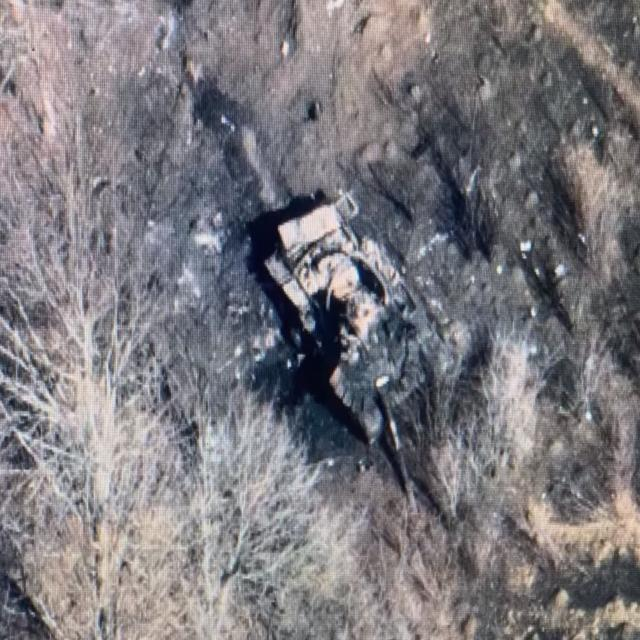destroyed: (264, 203, 457, 445)
